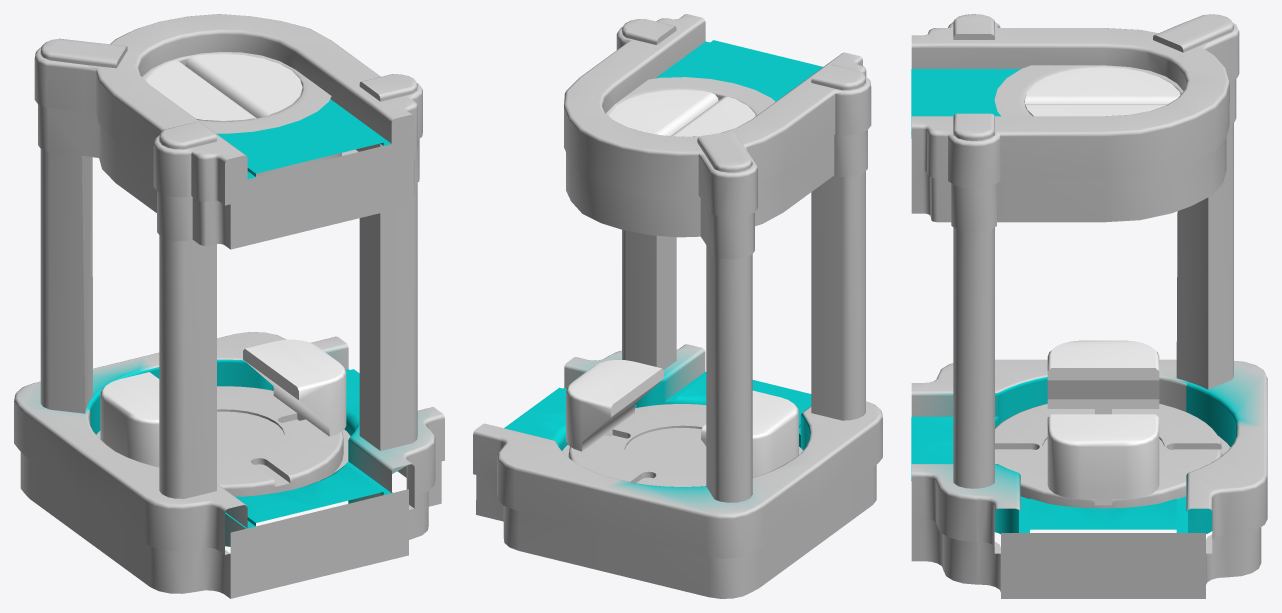
File: StackerMirroredInternalVariant.gltf
3 views of the same model, side by side, from view 1: azimuth 30°, elevation 25°; view 2: azimuth 150°, elevation 25°; view 3: azimuth 270°, elevation 25° (orthographic). The views are drawn at different scales.
Visible parts, largest first — view 1: Stacker_RIght_Main_LOD0, Stacker_Default_PusherRight_LOD0.001, Stacker_Default_PusherLeft_LOD0.001, Stacker_Default_DoorRight_LOD0.001, Stacker_Default_DoorLeft_LOD0.001; view 2: Stacker_RIght_Main_LOD0, Stacker_Default_PusherRight_LOD0.001, Stacker_Default_PusherLeft_LOD0.001, Stacker_Default_DoorRight_LOD0.001, Stacker_Default_DoorLeft_LOD0.001; view 3: Stacker_RIght_Main_LOD0, Stacker_Default_PusherRight_LOD0.001, Stacker_Default_PusherLeft_LOD0.001, Stacker_Default_DoorLeft_LOD0.001, Stacker_Default_DoorRight_LOD0.001.
Part boxes in pixels (box(x1,y1,x2,y2)): Stacker_RIght_Main_LOD0: box(14, 14, 444, 598); Stacker_Default_PusherRight_LOD0.001: box(243, 339, 346, 436); Stacker_Default_PusherLeft_LOD0.001: box(100, 372, 159, 467); Stacker_Default_DoorRight_LOD0.001: box(185, 54, 302, 118); Stacker_Default_DoorLeft_LOD0.001: box(146, 61, 256, 121); Stacker_RIght_Main_LOD0: box(473, 14, 882, 598); Stacker_Default_PusherRight_LOD0.001: box(566, 360, 663, 451); Stacker_Default_PusherLeft_LOD0.001: box(701, 390, 798, 477); Stacker_Default_DoorRight_LOD0.001: box(609, 90, 718, 135); Stacker_Default_DoorLeft_LOD0.001: box(671, 96, 755, 136); Stacker_RIght_Main_LOD0: box(911, 14, 1267, 598); Stacker_Default_PusherRight_LOD0.001: box(1047, 414, 1159, 505); Stacker_Default_PusherLeft_LOD0.001: box(1047, 340, 1159, 414); Stacker_Default_DoorLeft_LOD0.001: box(1024, 67, 1180, 104); Stacker_Default_DoorRight_LOD0.001: box(1025, 104, 1167, 116).
Size of the model in its own units: 0.9293 by 1.28 by 0.9293.
